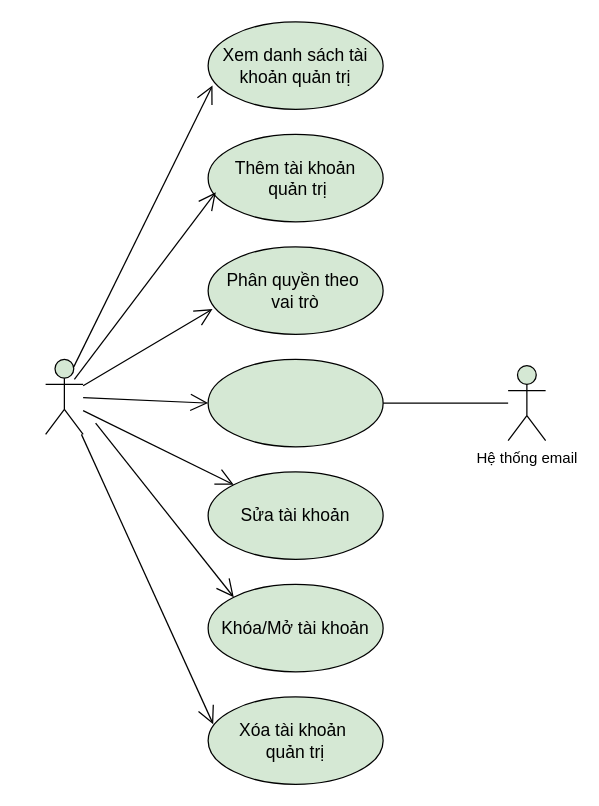
This 599x806 diagram has some shape labels left out. The centre of each missing label's shape, as x and y in pixels:
Gửi email thông báo: [295,402]
Quản trị viên: [63,396]
